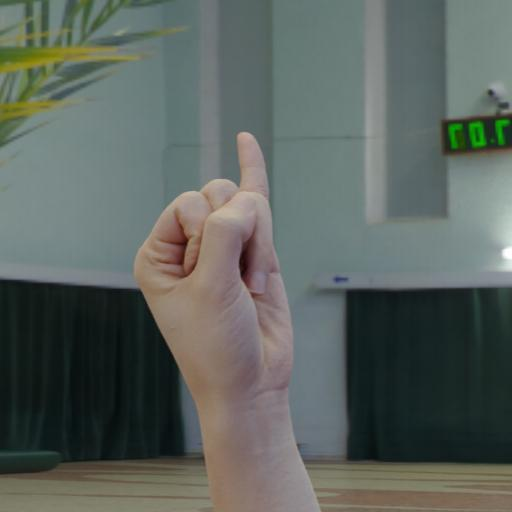I: (115, 126, 310, 411)
